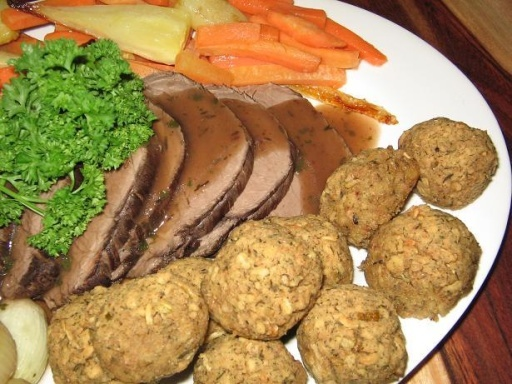background: (0, 0, 400, 230)
